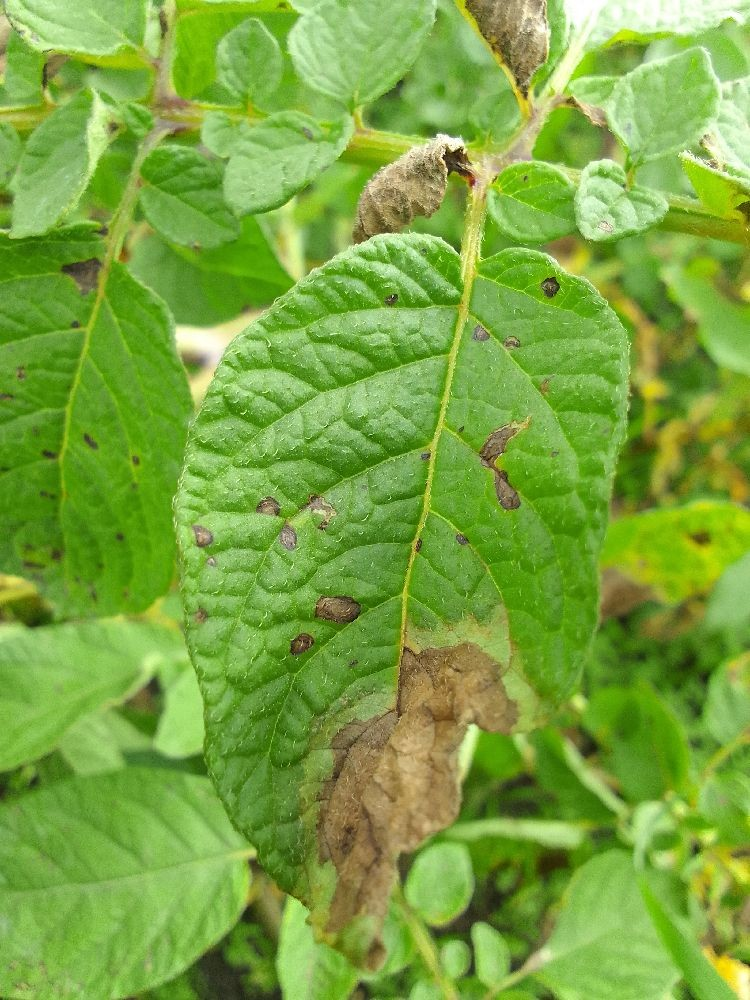late_blight: (299, 614, 536, 988), (338, 130, 497, 259), (450, 0, 563, 153), (188, 935, 293, 1000)
